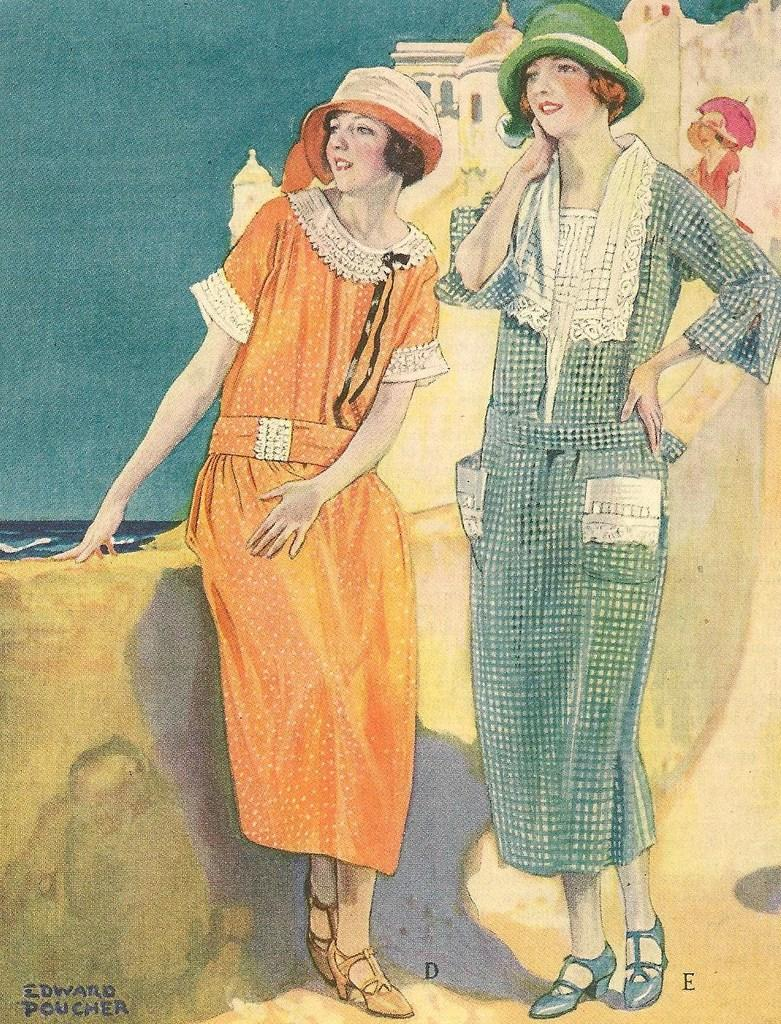Hat: (496, 0, 645, 124), (306, 66, 444, 183)
